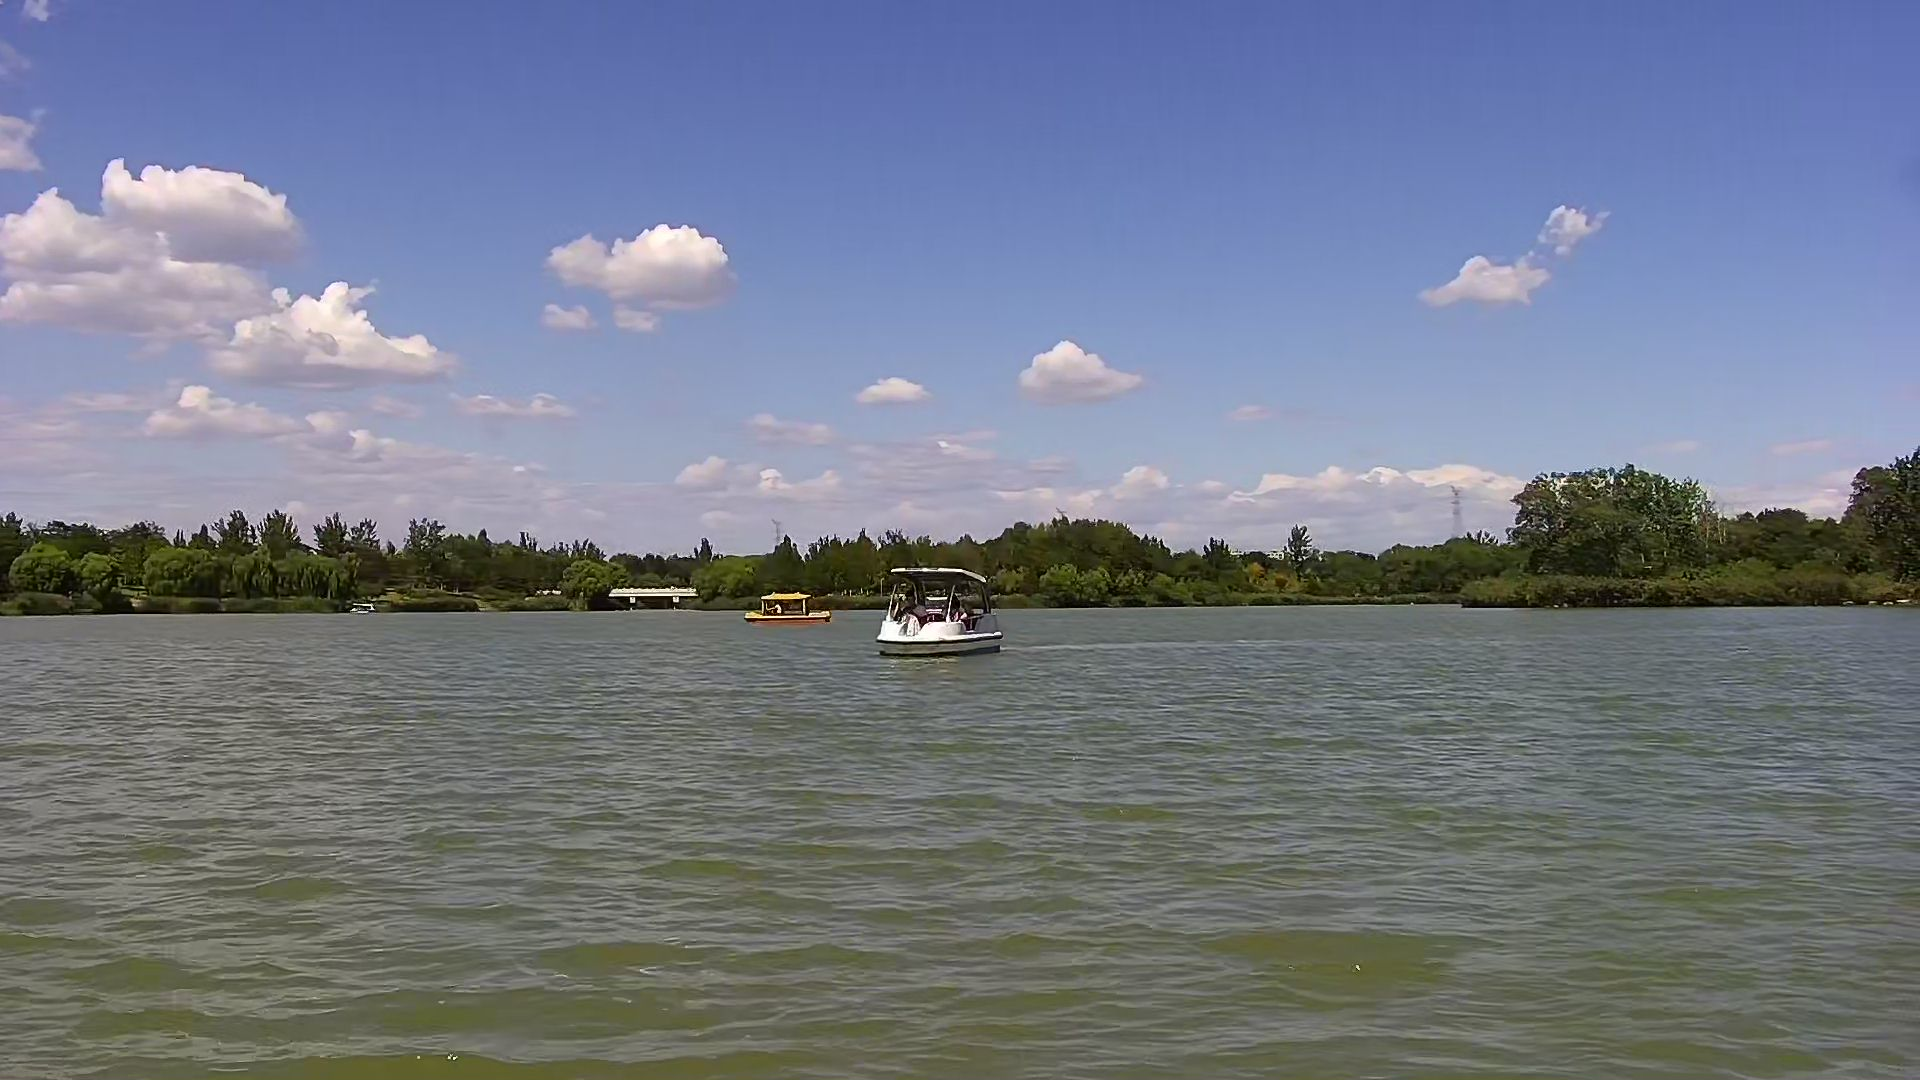boat: (876, 560, 1000, 669), (752, 585, 829, 624)
bridge: (611, 580, 696, 622)
